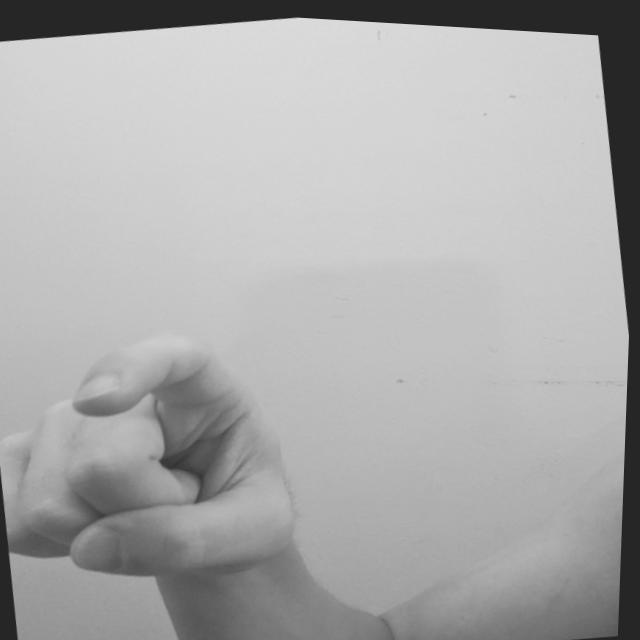Z: (0, 305, 324, 611)
